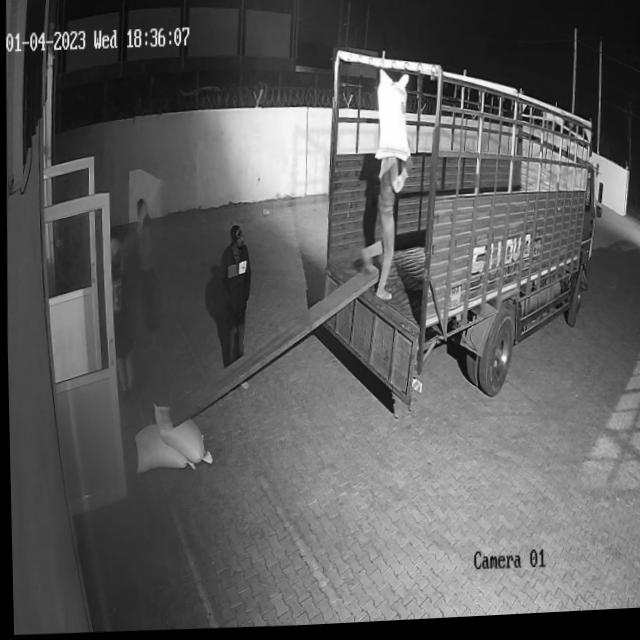sack: (149, 401, 213, 469), (372, 67, 411, 168), (131, 422, 193, 476)
